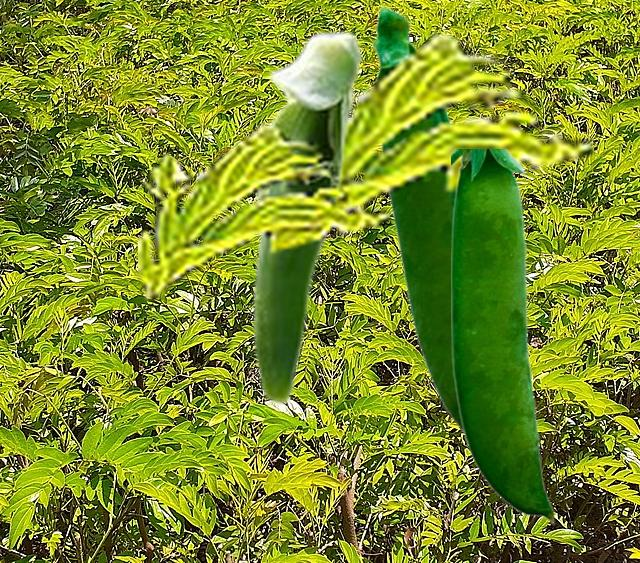pea: (251, 30, 363, 405), (371, 4, 462, 433), (451, 149, 554, 524)
